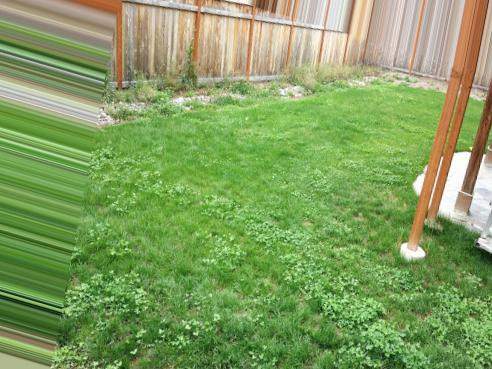patch: (129, 91, 281, 109)
